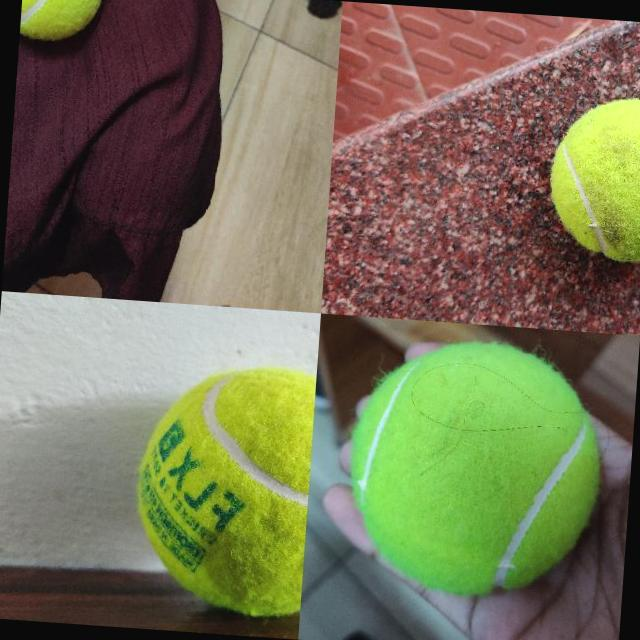Tennis Ball: (344, 337, 606, 602), (128, 357, 316, 621), (545, 91, 640, 262), (20, 0, 105, 43)
